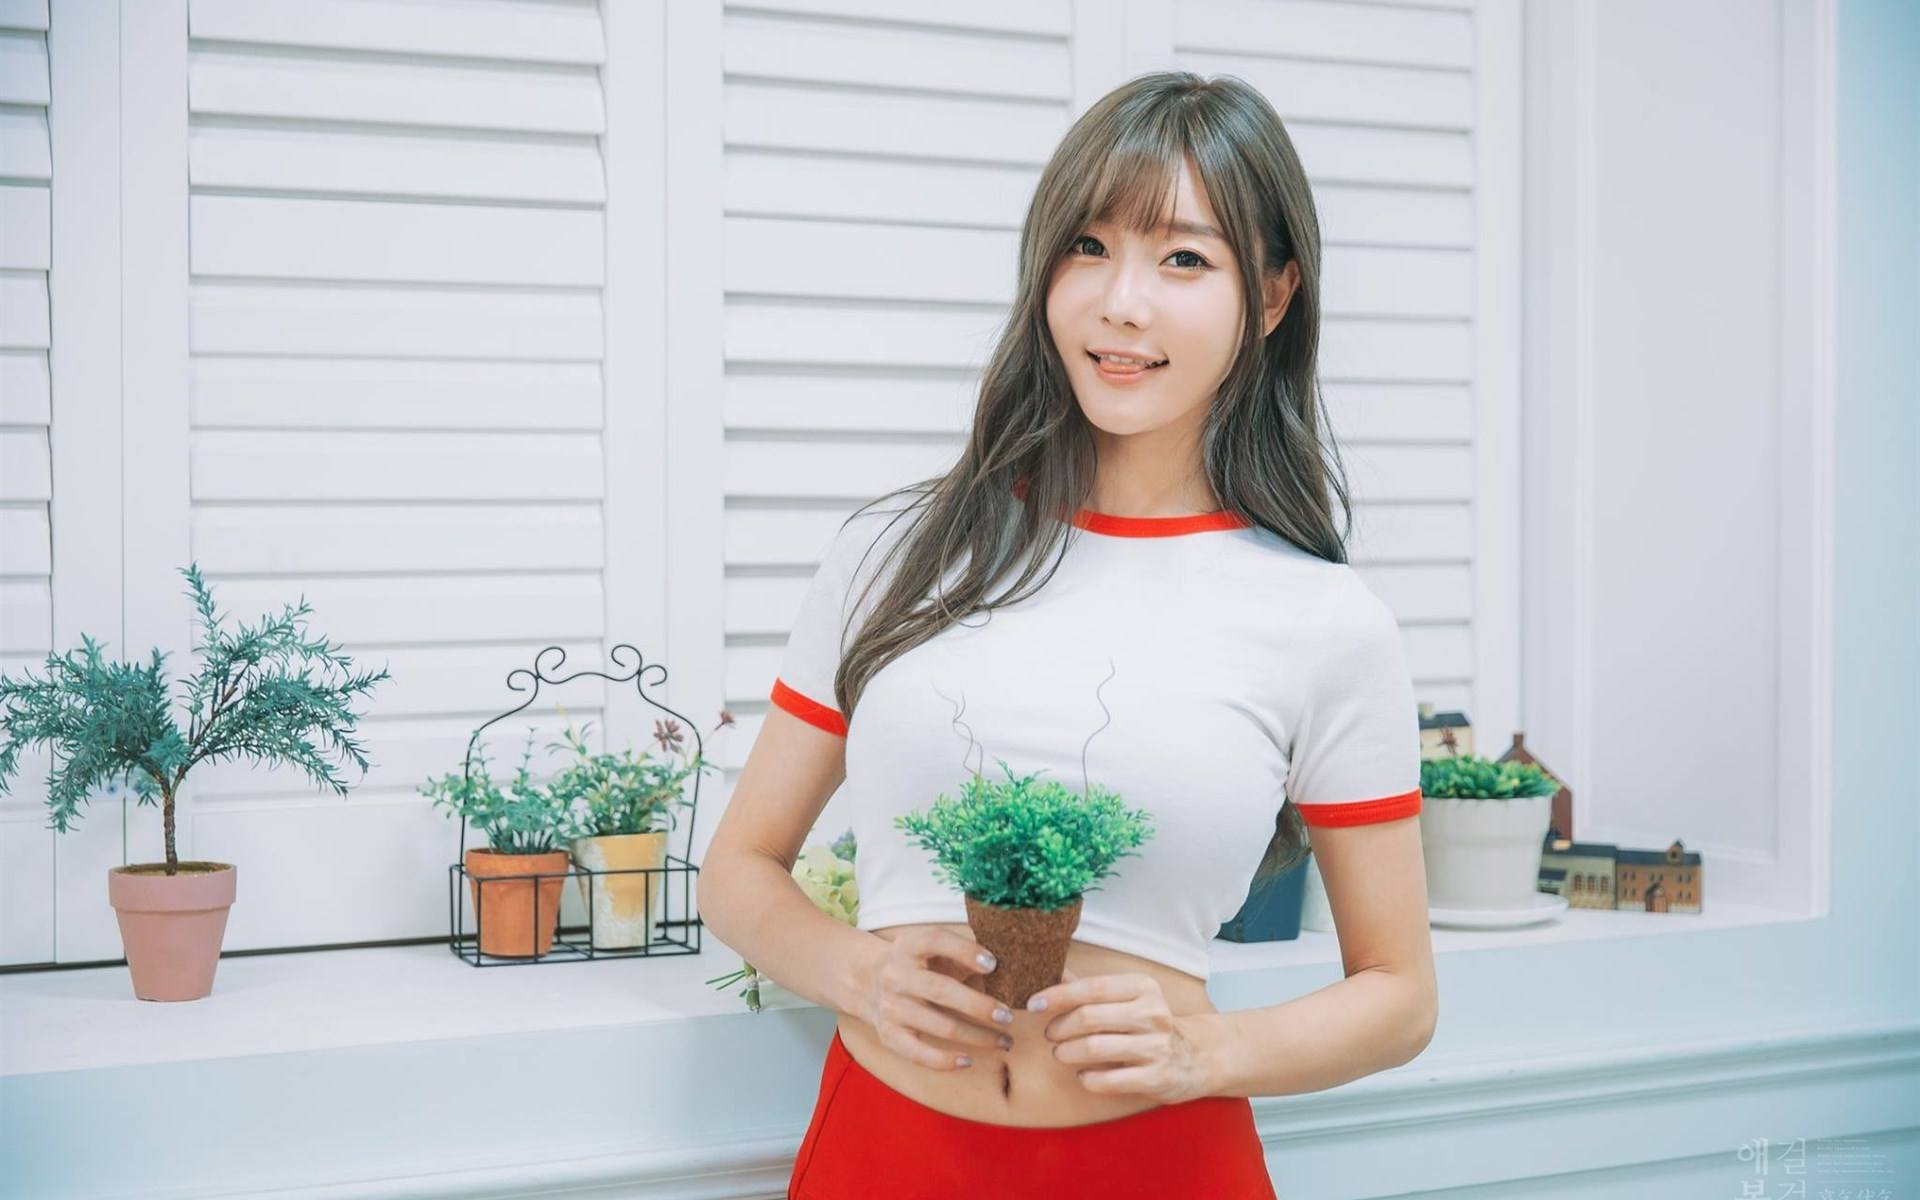person: (757, 85, 1516, 1069)
